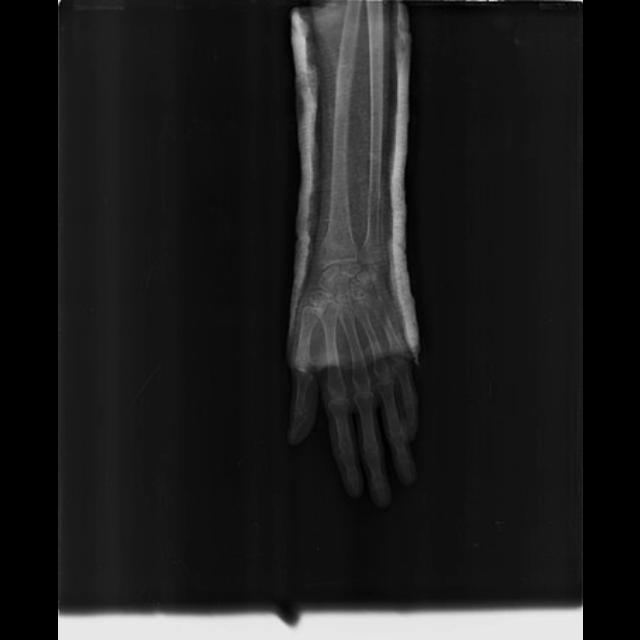Fracture: (320, 231, 366, 261)
